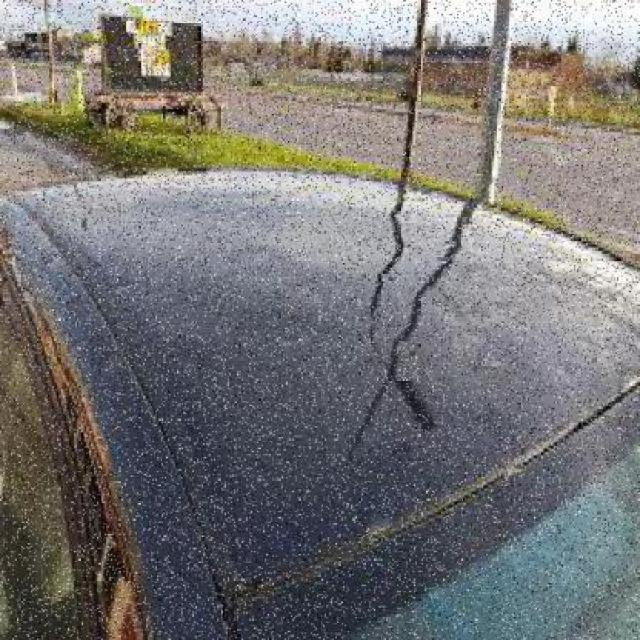roof-dent: (254, 148, 556, 541), (12, 173, 336, 500)
